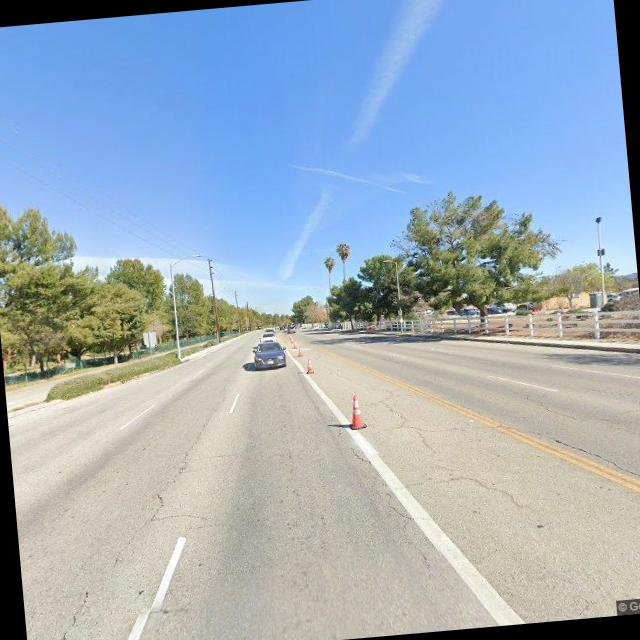pothole: (103, 412, 224, 554), (347, 439, 422, 546), (544, 424, 640, 497), (415, 466, 529, 514), (380, 389, 436, 454), (52, 585, 96, 640), (522, 390, 576, 425)
